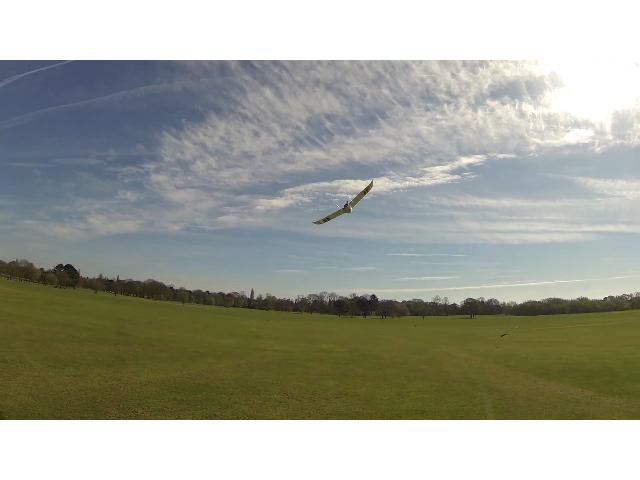Anti-Drone: (312, 181, 372, 225)
